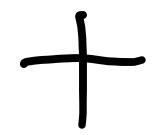plus: (22, 10, 146, 124)
